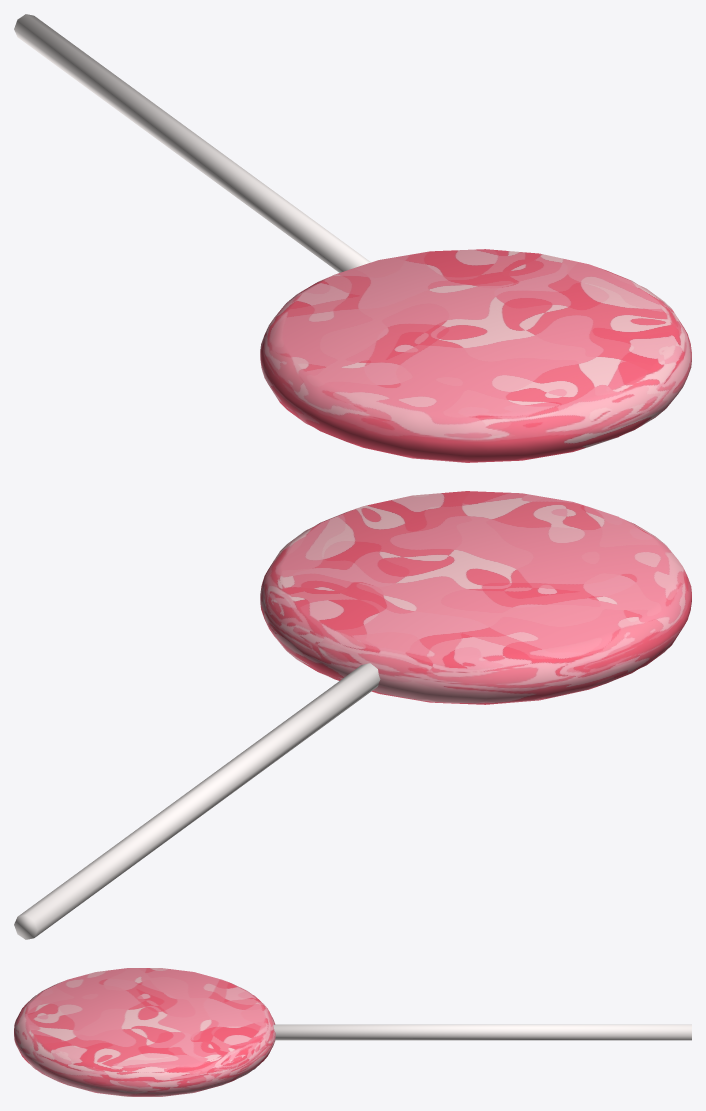
Rendered from Pink.glb.
3 views of the same model, one above another, from view 1: azimuth 30°, elevation 25°; view 2: azimuth 150°, elevation 25°; view 3: azimuth 270°, elevation 25° (orthographic). The views are drawn at different scales.
Visible parts, largest first — view 1: sucker, stem; view 2: sucker, stem; view 3: sucker, stem.
Boxes of the visible parts, x1,y1,x2,y2 form: sucker: (260, 249, 691, 462); stem: (14, 14, 370, 272); sucker: (260, 491, 691, 704); stem: (14, 663, 380, 939); sucker: (14, 968, 275, 1096); stem: (273, 1024, 691, 1040).
Bounding box in the file's own units: 1.84 × 0.2329 × 4.77.
2 materials, 1 textured.
